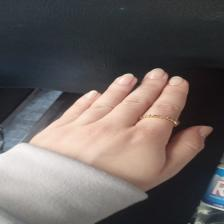five: (39, 68, 218, 188)
